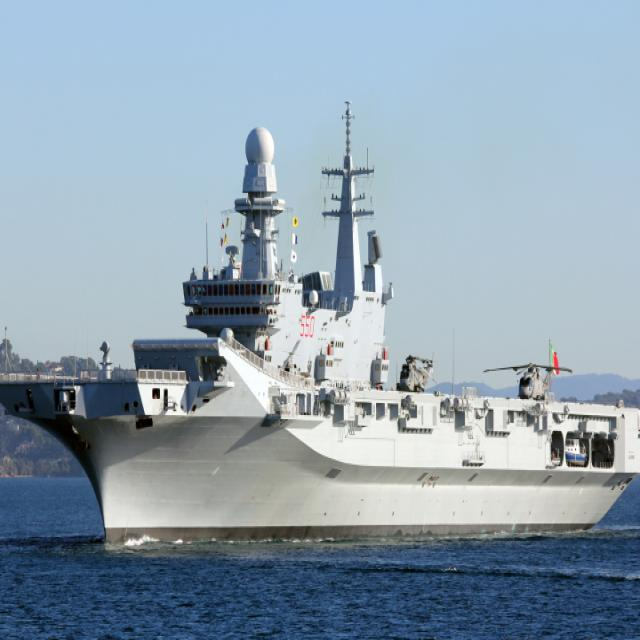Portanaves: (1, 91, 640, 551)
